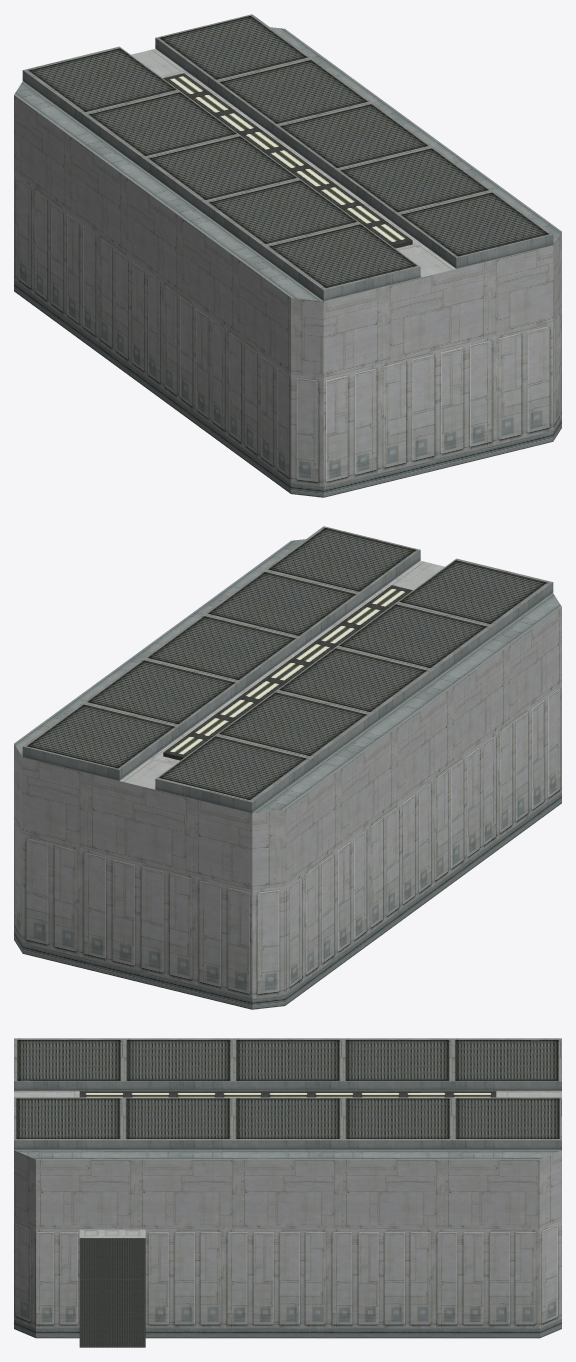
Rendered from ply_tato_assoc_hall_civ_s01_r16_meeting4_mesh_r16.fbx.
The picture shows the model from 3 angles, top to bottom: view 1: azimuth 30°, elevation 25°; view 2: azimuth 150°, elevation 25°; view 3: azimuth 270°, elevation 25°; orthographic projection. The views are drawn at different scales.
Parts seen in each view (by area): view 1: mesh_node; view 2: mesh_node; view 3: mesh_node.
Part boxes in pixels (x1=…): mesh_node: x1=14, y1=14, x2=561, y2=497; mesh_node: x1=14, y1=526, x2=561, y2=1009; mesh_node: x1=14, y1=1038, x2=561, y2=1347.
Bounding box in the file's own units: 7 × 4.75 × 12.5.
